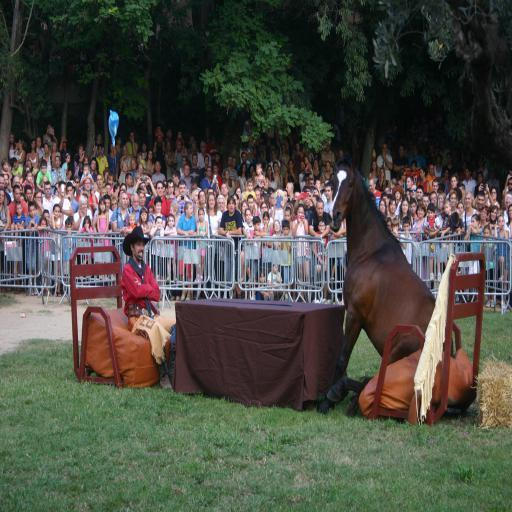horse: (313, 148, 455, 414)
